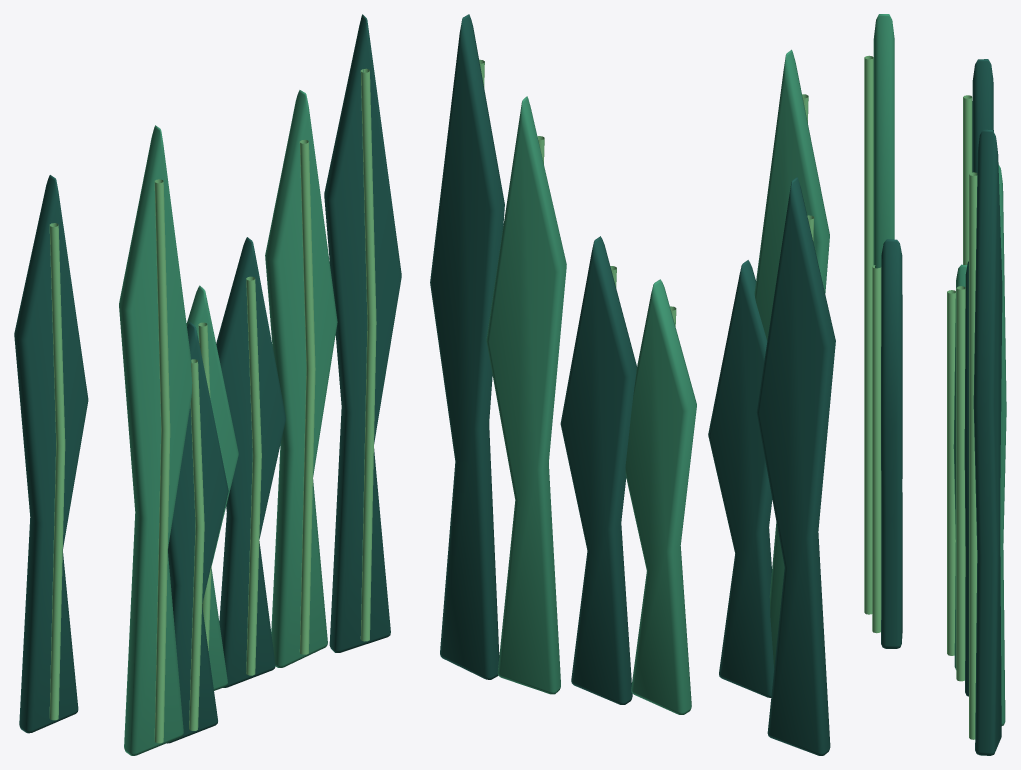
The model's file is r087_development_undersea_additions_undersea_02.glb.
The picture shows the model from 3 angles, left to right: view 1: azimuth 30°, elevation 25°; view 2: azimuth 150°, elevation 25°; view 3: azimuth 270°, elevation 25°; orthographic projection. The views are drawn at different scales.
Parts seen in each view (by area): view 1: r087_development_undersea_additions_undersea_02.001; view 2: r087_development_undersea_additions_undersea_02.001; view 3: r087_development_undersea_additions_undersea_02.001.
Part boxes in pixels (x1,y1,x2,y2): r087_development_undersea_additions_undersea_02.001: (14, 14, 401, 755); r087_development_undersea_additions_undersea_02.001: (430, 14, 835, 755); r087_development_undersea_additions_undersea_02.001: (864, 14, 1006, 755).
Bounding box in the file's own units: 2.33 × 3.65 × 0.7553.
